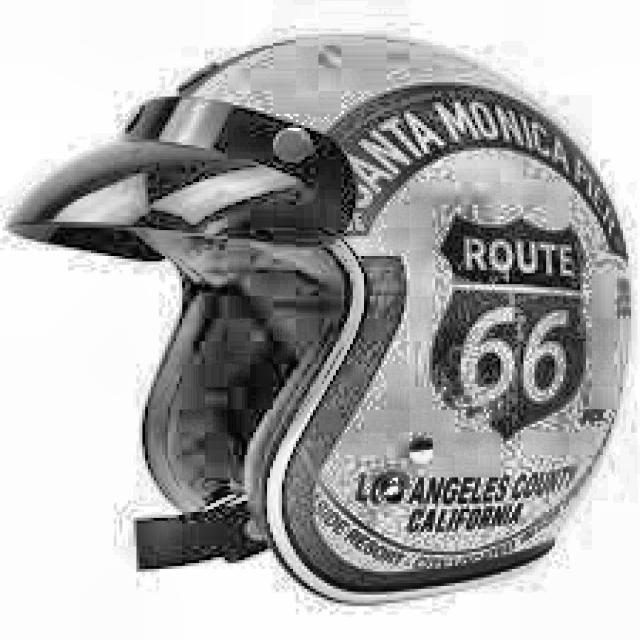Helmet: (5, 27, 639, 605)
